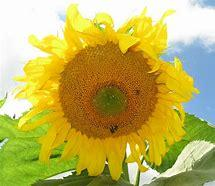sunflowers: (23, 6, 191, 174)
